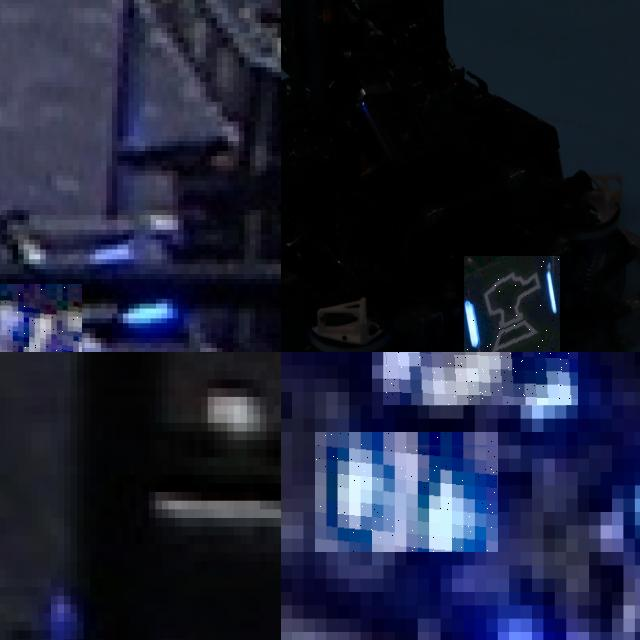B1: (0, 284, 81, 352)
B3: (315, 432, 498, 552), (578, 405, 640, 591), (383, 352, 577, 405)
Bs: (463, 256, 560, 352)
